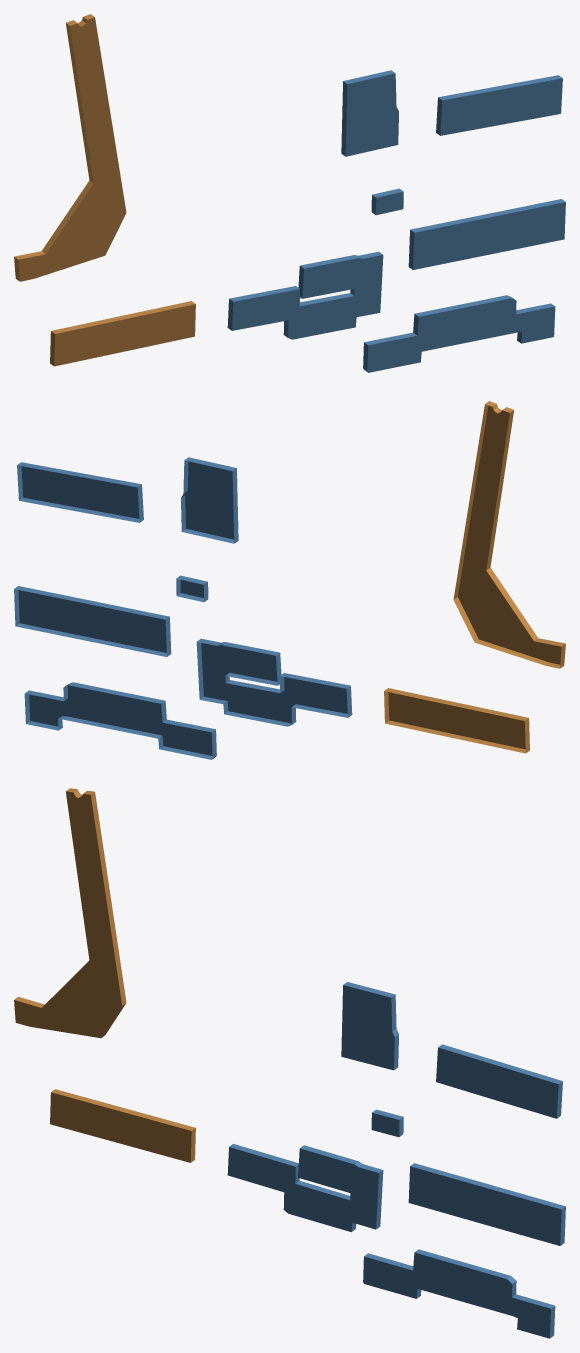
File: buildings_k11.obj
The picture shows the model from 3 angles, top to bottom: view 1: azimuth 30°, elevation 25°; view 2: azimuth 150°, elevation 25°; view 3: azimuth 330°, elevation 25°; orthographic projection.
Parts seen in each view (by area): view 1: roof4, roof2, zone4, zone2; view 2: roof4, roof2, zone4, zone2; view 3: roof4, roof2, zone4, zone2.
Boxes of the visible parts, <box> form: roof4: <box>232,73,565,372</box>; roof2: <box>18,17,195,366</box>; zone4: <box>227,70,565,372</box>; zone2: <box>14,14,195,365</box>; roof4: <box>18,461,347,755</box>; roof2: <box>388,405,561,749</box>; zone4: <box>14,457,352,759</box>; zone2: <box>384,401,565,753</box>; roof4: <box>227,985,561,1338</box>; roof2: <box>14,791,191,1162</box>; zone4: <box>229,982,565,1338</box>; zone2: <box>14,788,195,1162</box>.
Size of the model in its own units: 318 by 239 by 4.33.
